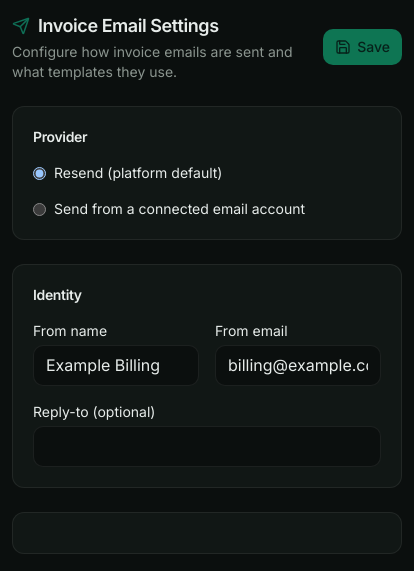
it: OutgoingEmailEditor — invoice kind › disables Save until a field is edited (dirty tracking)
Expected: the button "Save" is disabled, [323, 29, 402, 65]
Replace the text in the field showing "billing@example.com" with "new@example.com": (298, 365) [215, 345, 381, 386]
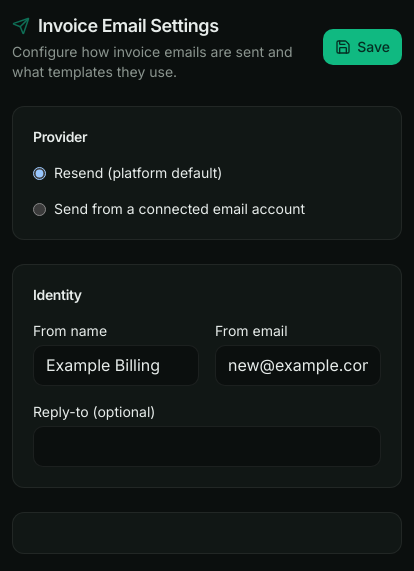
Expected: the button "Save" is enabled, [323, 29, 402, 65]
